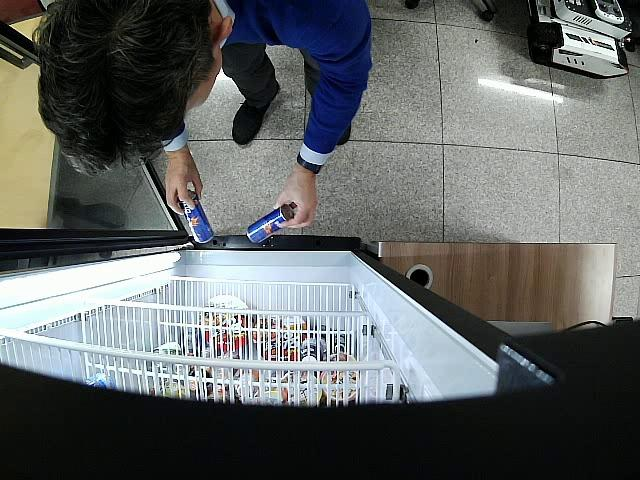00_hand: (273, 174, 315, 228), (166, 153, 202, 215)
16_hot6: (178, 190, 215, 243), (247, 204, 294, 244)
